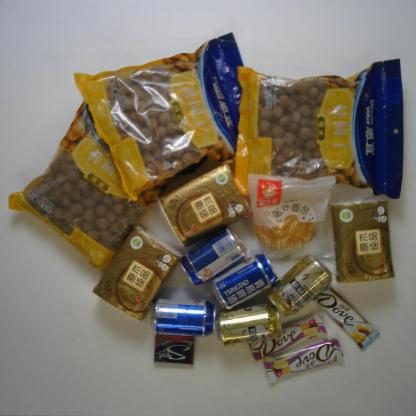Alcohol: (266, 254, 334, 318), (179, 225, 246, 287), (211, 254, 279, 310), (214, 301, 283, 348), (150, 296, 217, 337)
Chocolate: (311, 284, 381, 352), (248, 313, 329, 363), (263, 338, 346, 384)
Dessert: (245, 171, 338, 261)
Dried Food: (8, 96, 210, 271), (73, 30, 255, 202), (234, 58, 404, 200)
Gum: (154, 332, 196, 366)
Tissue: (91, 223, 185, 323), (156, 161, 254, 249), (328, 196, 394, 284)
